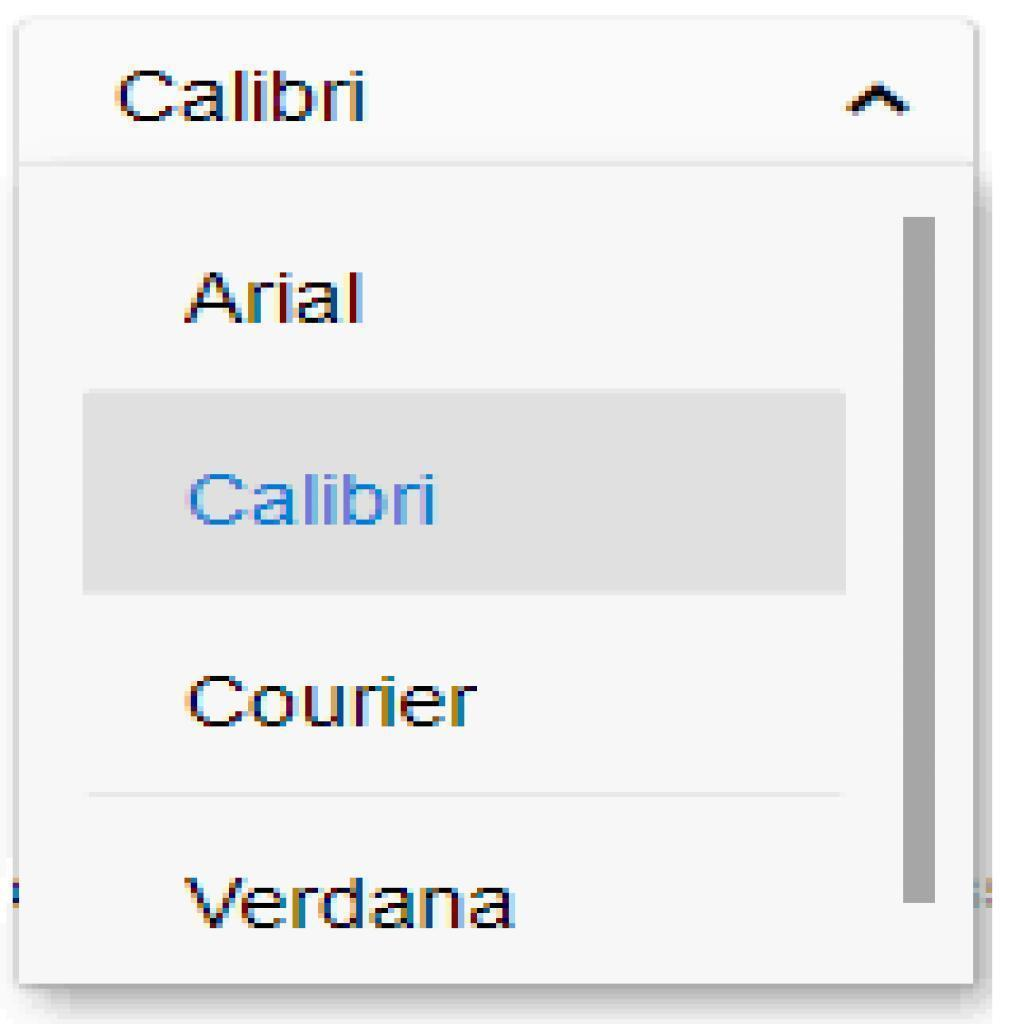dropdown: (14, 33, 946, 164)
